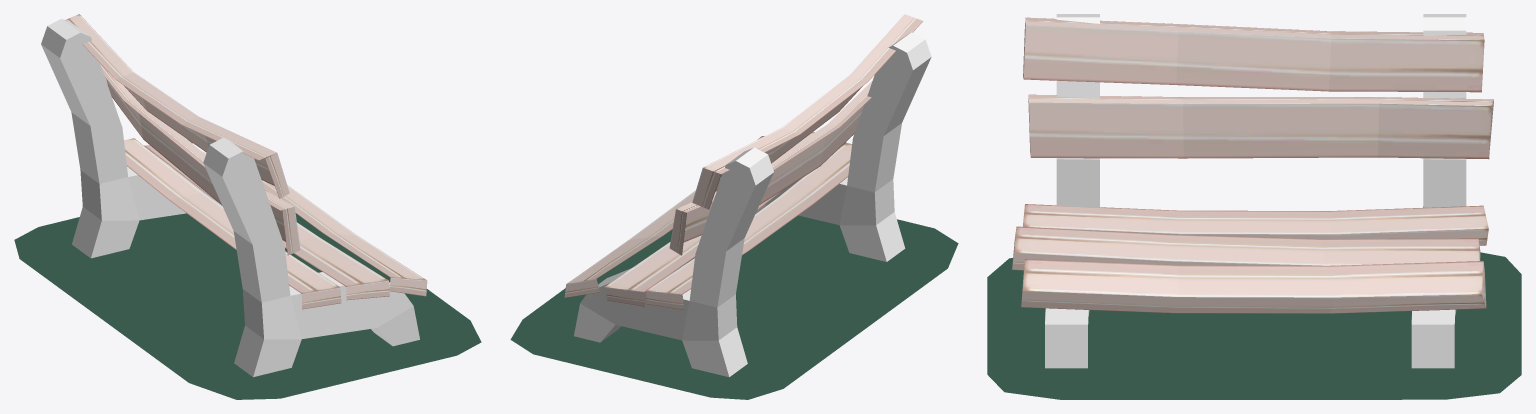
File: DecoBenchGreen1.fbx
The picture shows the model from 3 angles, left to right: view 1: azimuth 30°, elevation 25°; view 2: azimuth 150°, elevation 25°; view 3: azimuth 270°, elevation 25°; orthographic projection. The views are drawn at different scales.
Parts seen in each view (by area): view 1: ShadowSquare, BenchTownRight, BenchTownFoot, BenchTownFoot (1); view 2: ShadowSquare, BenchTownRight, BenchTownFoot (1), BenchTownFoot; view 3: BenchTownRight, ShadowSquare, BenchTownFoot (1), BenchTownFoot.
Part boxes in pixels (bbox=[...]): ShadowSquare: bbox=[14, 213, 481, 399]; BenchTownRight: bbox=[65, 14, 427, 309]; BenchTownFoot: bbox=[203, 137, 419, 377]; BenchTownFoot (1): bbox=[41, 19, 222, 258]; ShadowSquare: bbox=[510, 215, 958, 399]; BenchTownRight: bbox=[564, 14, 922, 309]; BenchTownFoot (1): bbox=[574, 147, 773, 377]; BenchTownFoot: bbox=[755, 32, 931, 261]; BenchTownRight: bbox=[1012, 17, 1493, 313]; ShadowSquare: bbox=[987, 252, 1521, 399]; BenchTownFoot (1): bbox=[1411, 14, 1466, 368]; BenchTownFoot: bbox=[1045, 14, 1099, 368].
Bounding box in the file's own units: 0.9881 × 0.8019 × 1.47.
2 materials, 1 textured.
